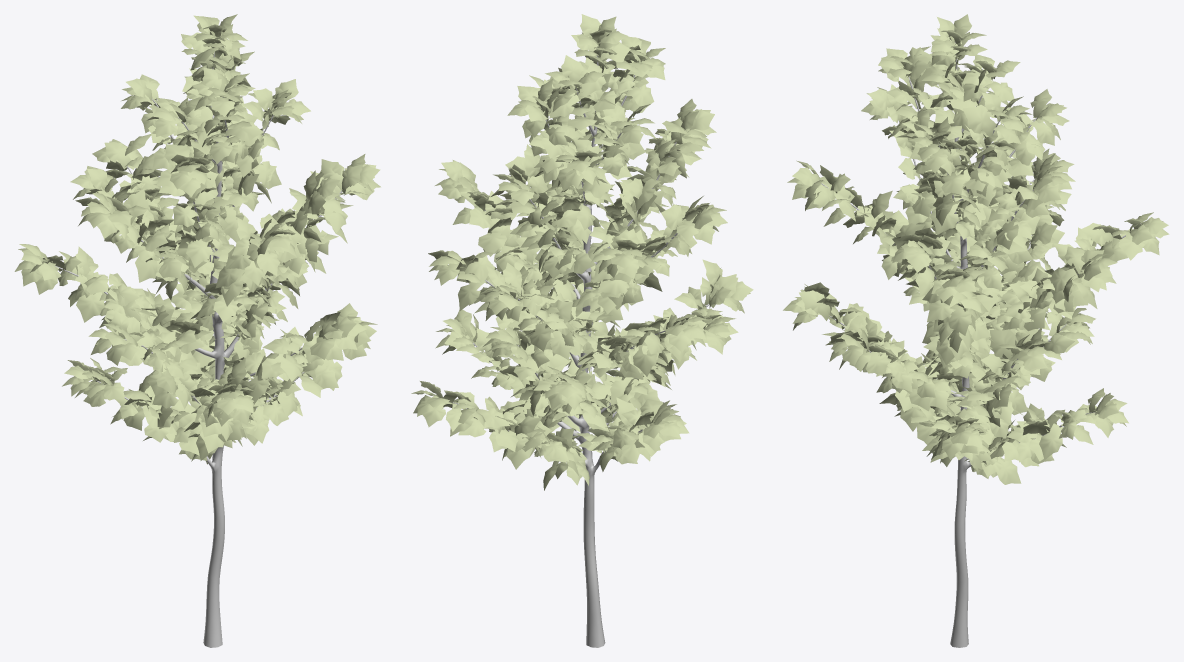
The model's file is tree-09.FBX.
3 renders of one model, left to right at view 1: azimuth 30°, elevation 25°; view 2: azimuth 150°, elevation 25°; view 3: azimuth 270°, elevation 25°, orthographic.
Visible parts, largest first — view 1: tree009; view 2: tree009; view 3: tree009.
Boxes of the visible parts, box(x1,y1,x2,y2) form: tree009: box(14, 14, 380, 647); tree009: box(411, 14, 753, 647); tree009: box(783, 14, 1169, 647).
Size of the model in its own units: 223 by 423 by 238.
